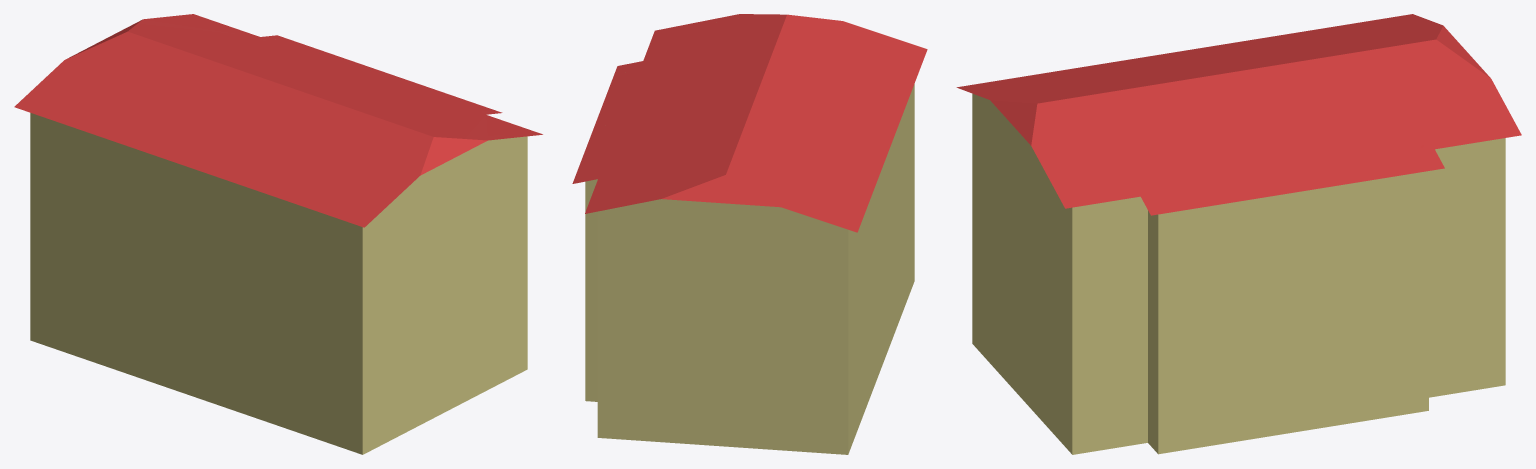
3 views of the same model, side by side, from view 1: azimuth 30°, elevation 25°; view 2: azimuth 150°, elevation 25°; view 3: azimuth 270°, elevation 25° (orthographic). The views are drawn at different scales.
Bounding box in the file's own units: 18.4 × 22.6 × 12.92.
